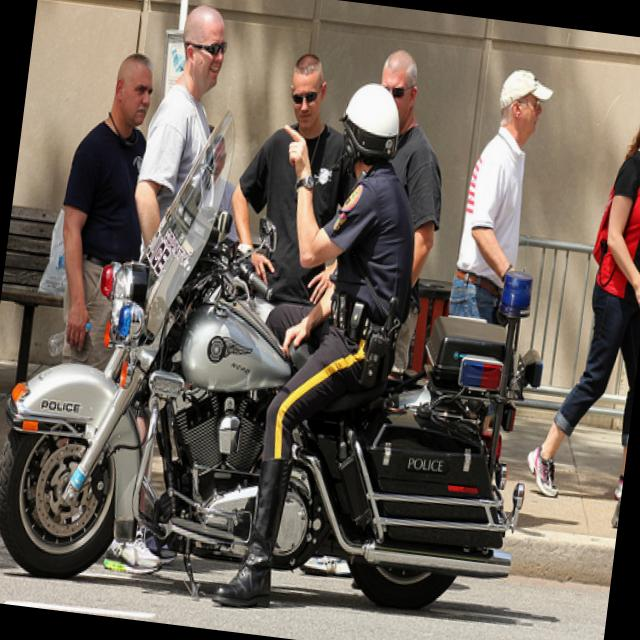Vehicle: (0, 84, 570, 634)
